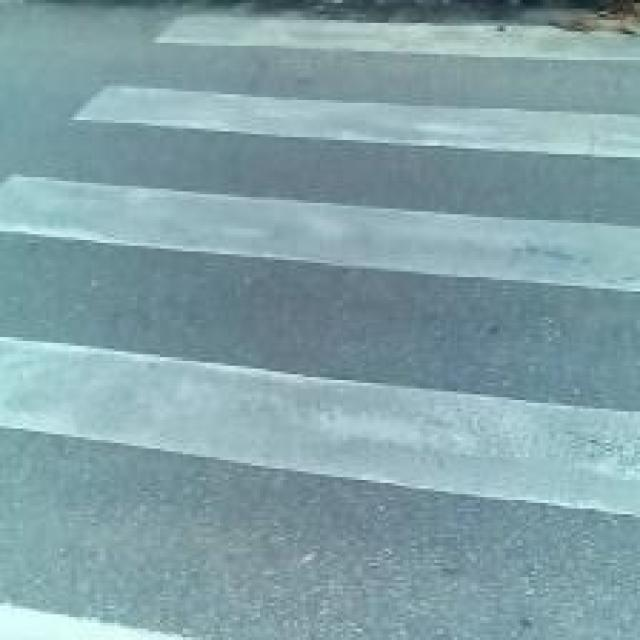zebra: (152, 0, 614, 640)
